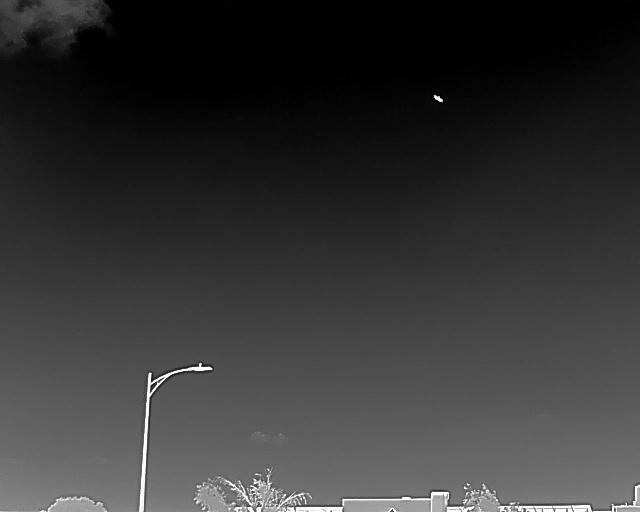fpv-drone: (433, 94, 443, 102)
